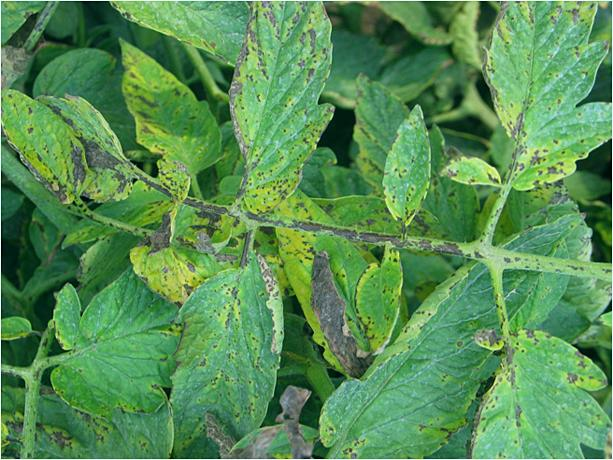Tomato leaf bacterial spot: (319, 219, 590, 459), (213, 5, 358, 214), (479, 0, 613, 205), (162, 242, 295, 439), (46, 261, 214, 413), (112, 31, 220, 181), (1, 83, 90, 213), (376, 101, 438, 229), (349, 244, 407, 351), (435, 150, 506, 188)
